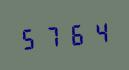five: (18, 24, 40, 52)
four: (87, 18, 109, 45)
seven: (41, 22, 63, 50)
six: (64, 20, 86, 48)
